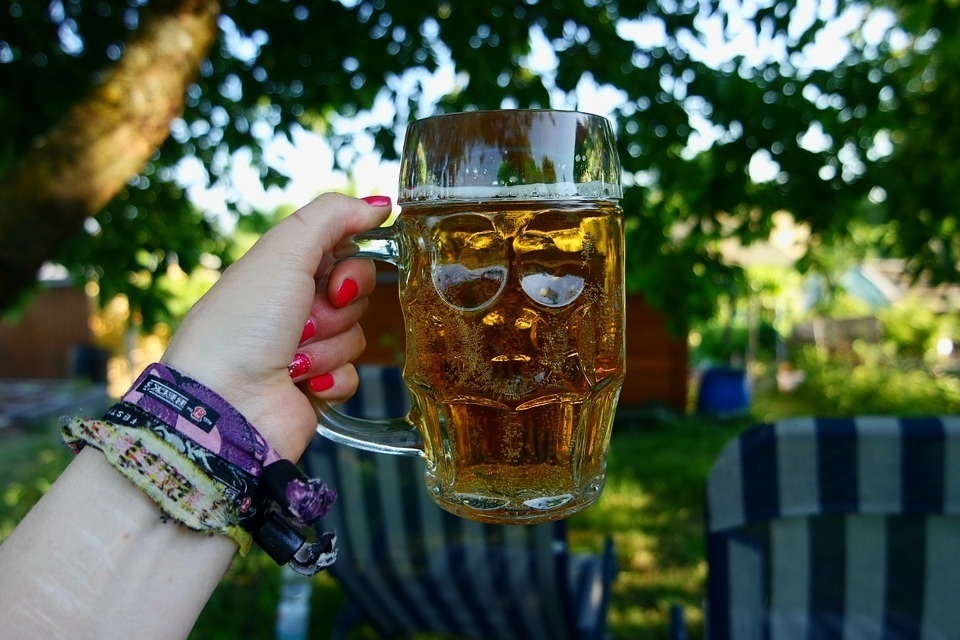whiskey: (384, 109, 621, 534)
